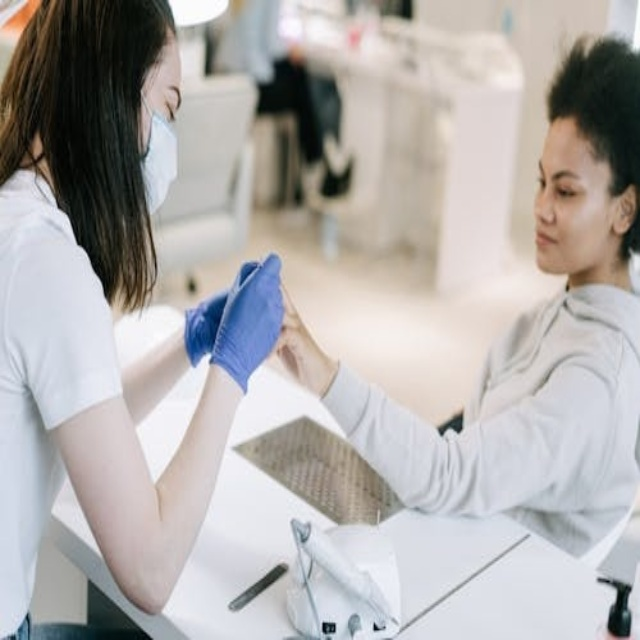Guantes: (180, 241, 289, 383)
Mascara: (135, 90, 179, 218)
Sin_gafas: (536, 149, 600, 207), (147, 67, 182, 126)
Sin_guantes: (272, 277, 336, 398)
Sin_mascara: (531, 218, 570, 270)
